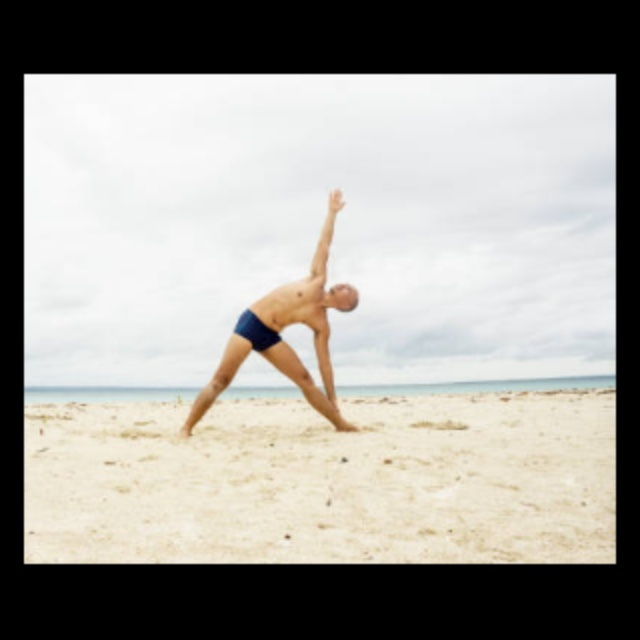Triangle_Pose: (170, 184, 376, 439)
